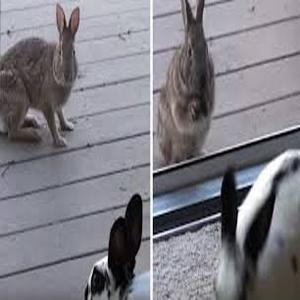rabbit: (0, 5, 79, 145), (157, 0, 214, 163)
